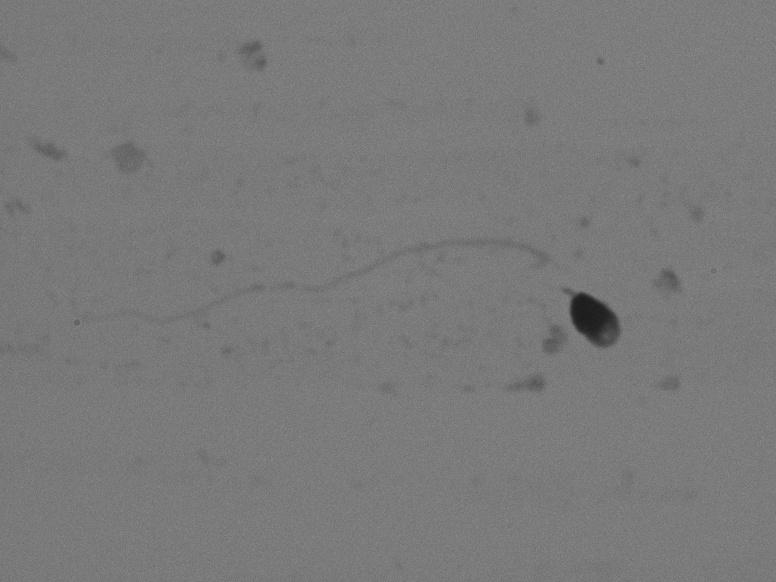Abnormal: (29, 110, 680, 433)
